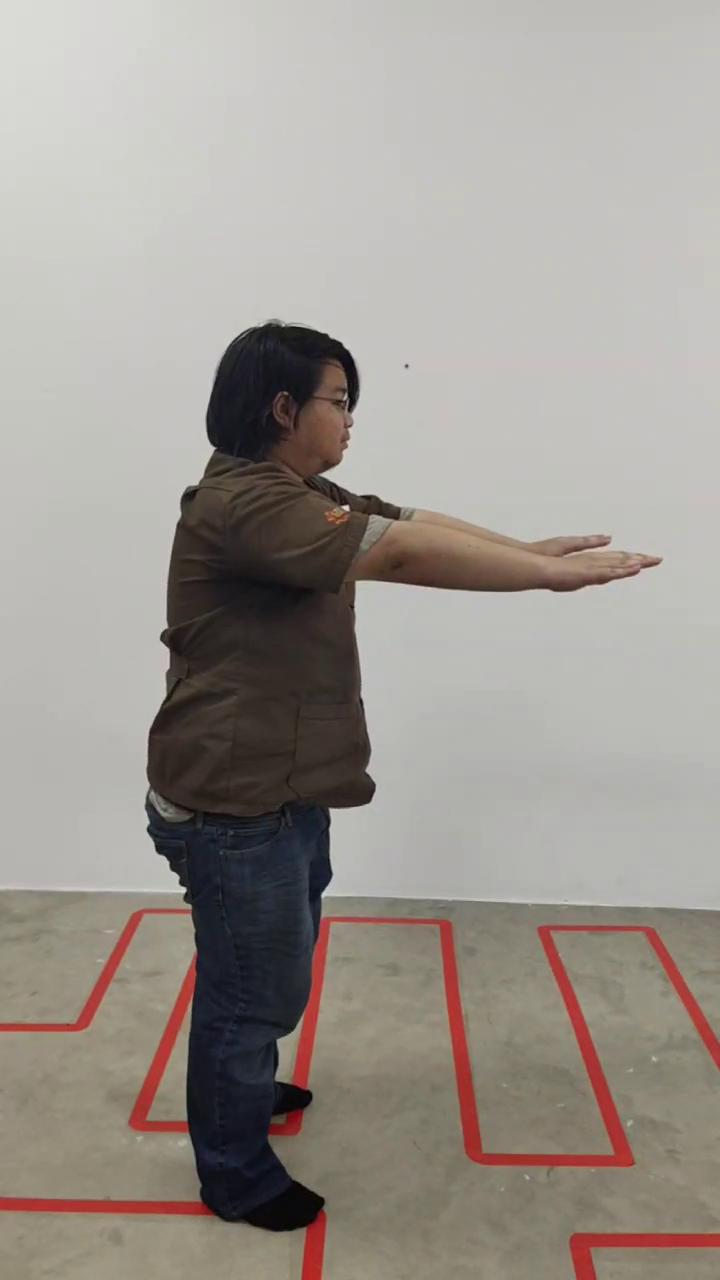squat up: (145, 322, 659, 1235)
